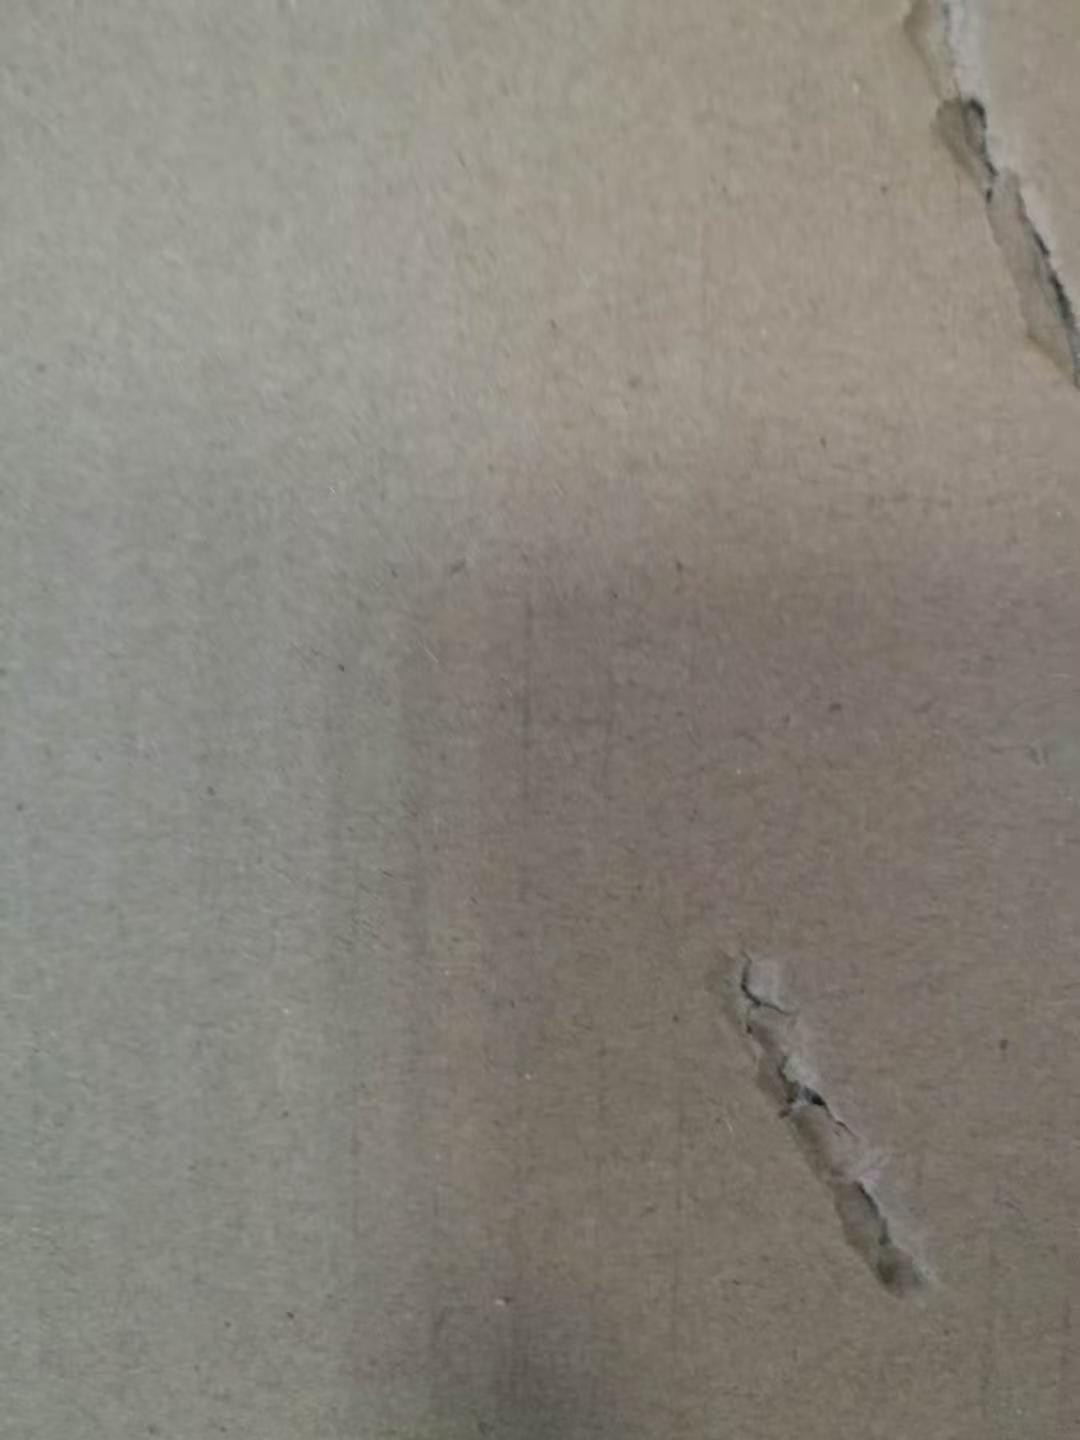defect: (670, 922, 963, 1315), (863, 1, 1080, 413)
